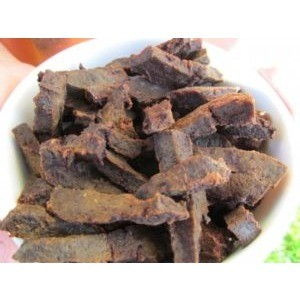liver_brain food: (69, 81, 246, 212)
